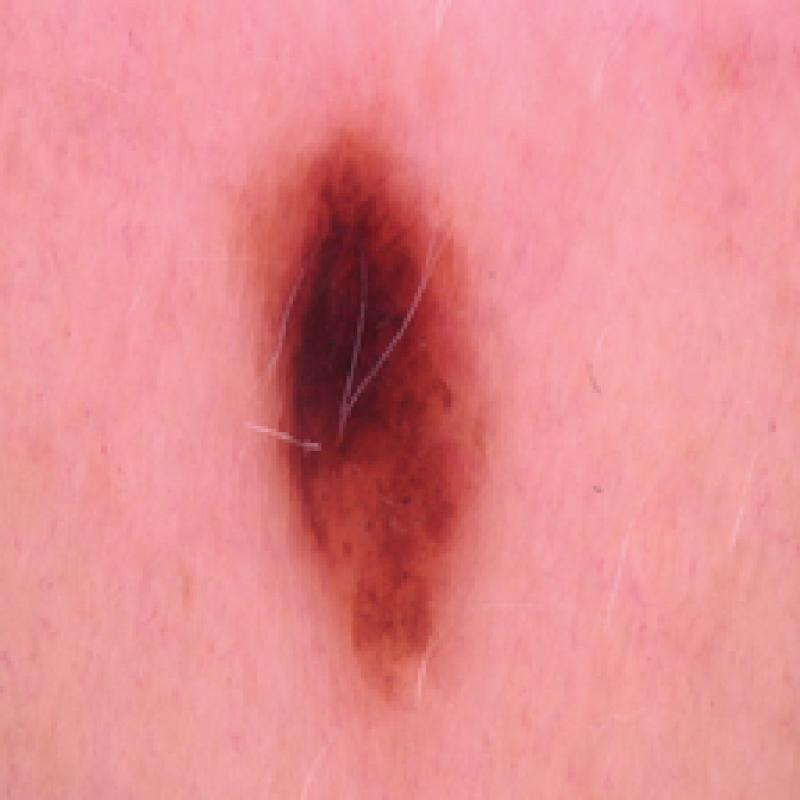benign: (226, 133, 526, 691)
